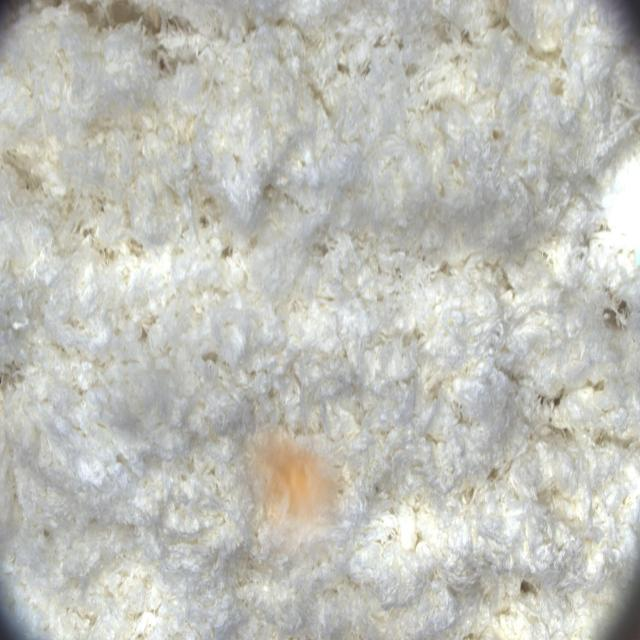dust: (229, 420, 356, 580)
